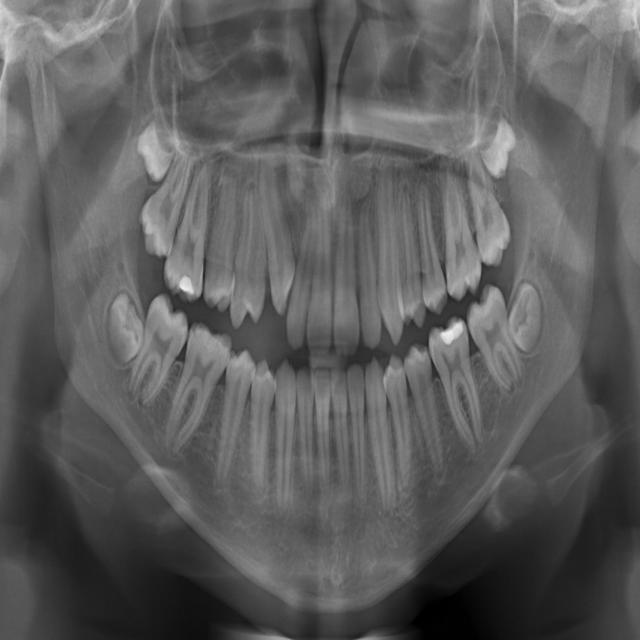CompositeResinRestoration: (437, 320, 464, 354), (179, 274, 198, 301)
